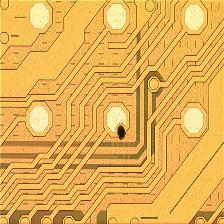PARTICLE: (114, 125, 130, 142)
